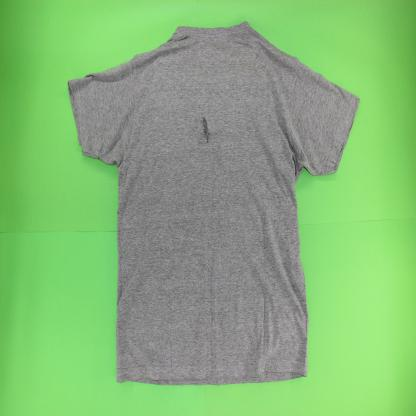hole: (201, 116, 210, 146)
